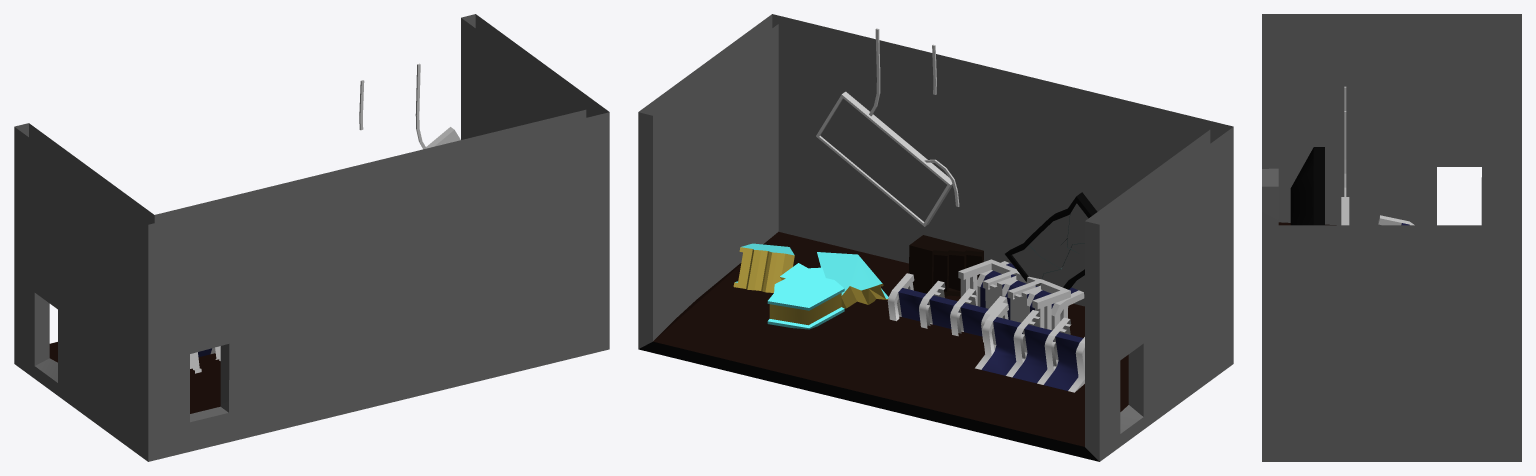
The model's file is hospital4.FBX.
3 renders of one model, left to right at view 1: azimuth 30°, elevation 25°; view 2: azimuth 150°, elevation 25°; view 3: azimuth 270°, elevation 25°, orthographic. The views are drawn at different scales.
Parts seen in each view (by area): view 1: Box008; view 2: Box008; view 3: Box008.
Boxes of the visible parts, x1,y1,x2,y2 form: Box008: (14,14,609,461); Box008: (638,14,1233,461); Box008: (1262,14,1521,461).
Size of the model in its own units: 969 by 581 by 487.
